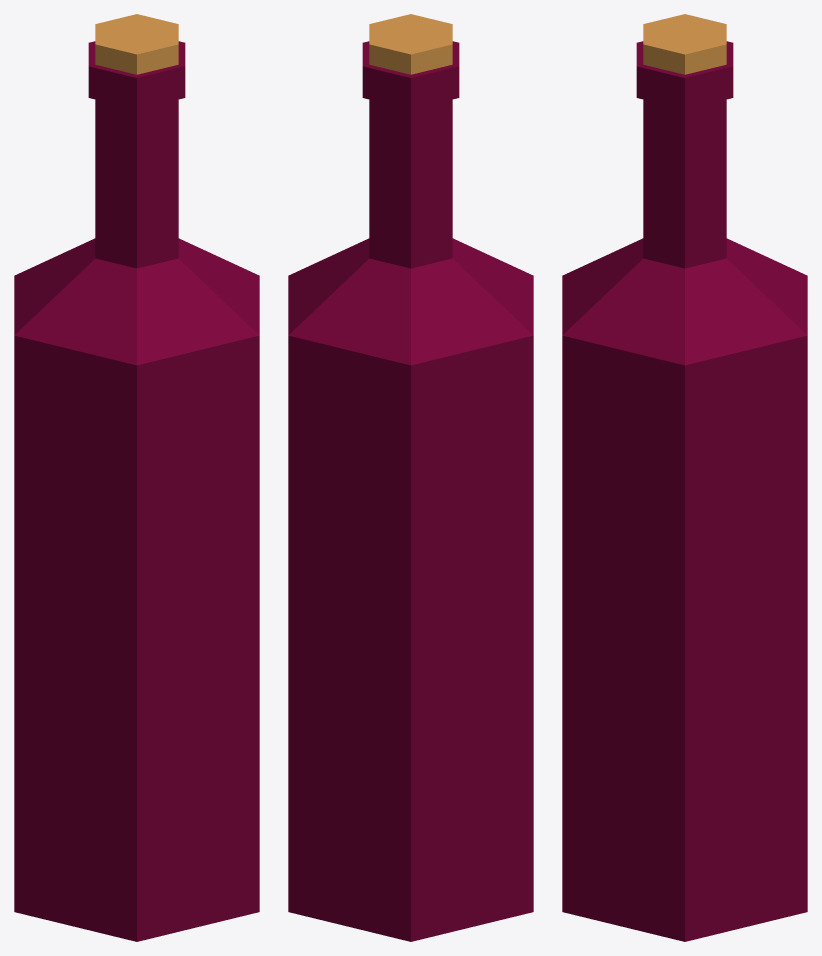
Rendered from wineBottle1_PLY.fbx.
The picture shows the model from 3 angles, left to right: view 1: azimuth 30°, elevation 25°; view 2: azimuth 150°, elevation 25°; view 3: azimuth 270°, elevation 25°; orthographic projection.
Parts seen in each view (by area): view 1: wineBottle1_PLY; view 2: wineBottle1_PLY; view 3: wineBottle1_PLY.
Part boxes in pixels (bbox=[...]): wineBottle1_PLY: bbox=[14, 14, 259, 941]; wineBottle1_PLY: bbox=[288, 14, 533, 941]; wineBottle1_PLY: bbox=[562, 14, 807, 941].
Bounding box in the file's own units: 0.4872 × 1.61 × 0.422.
